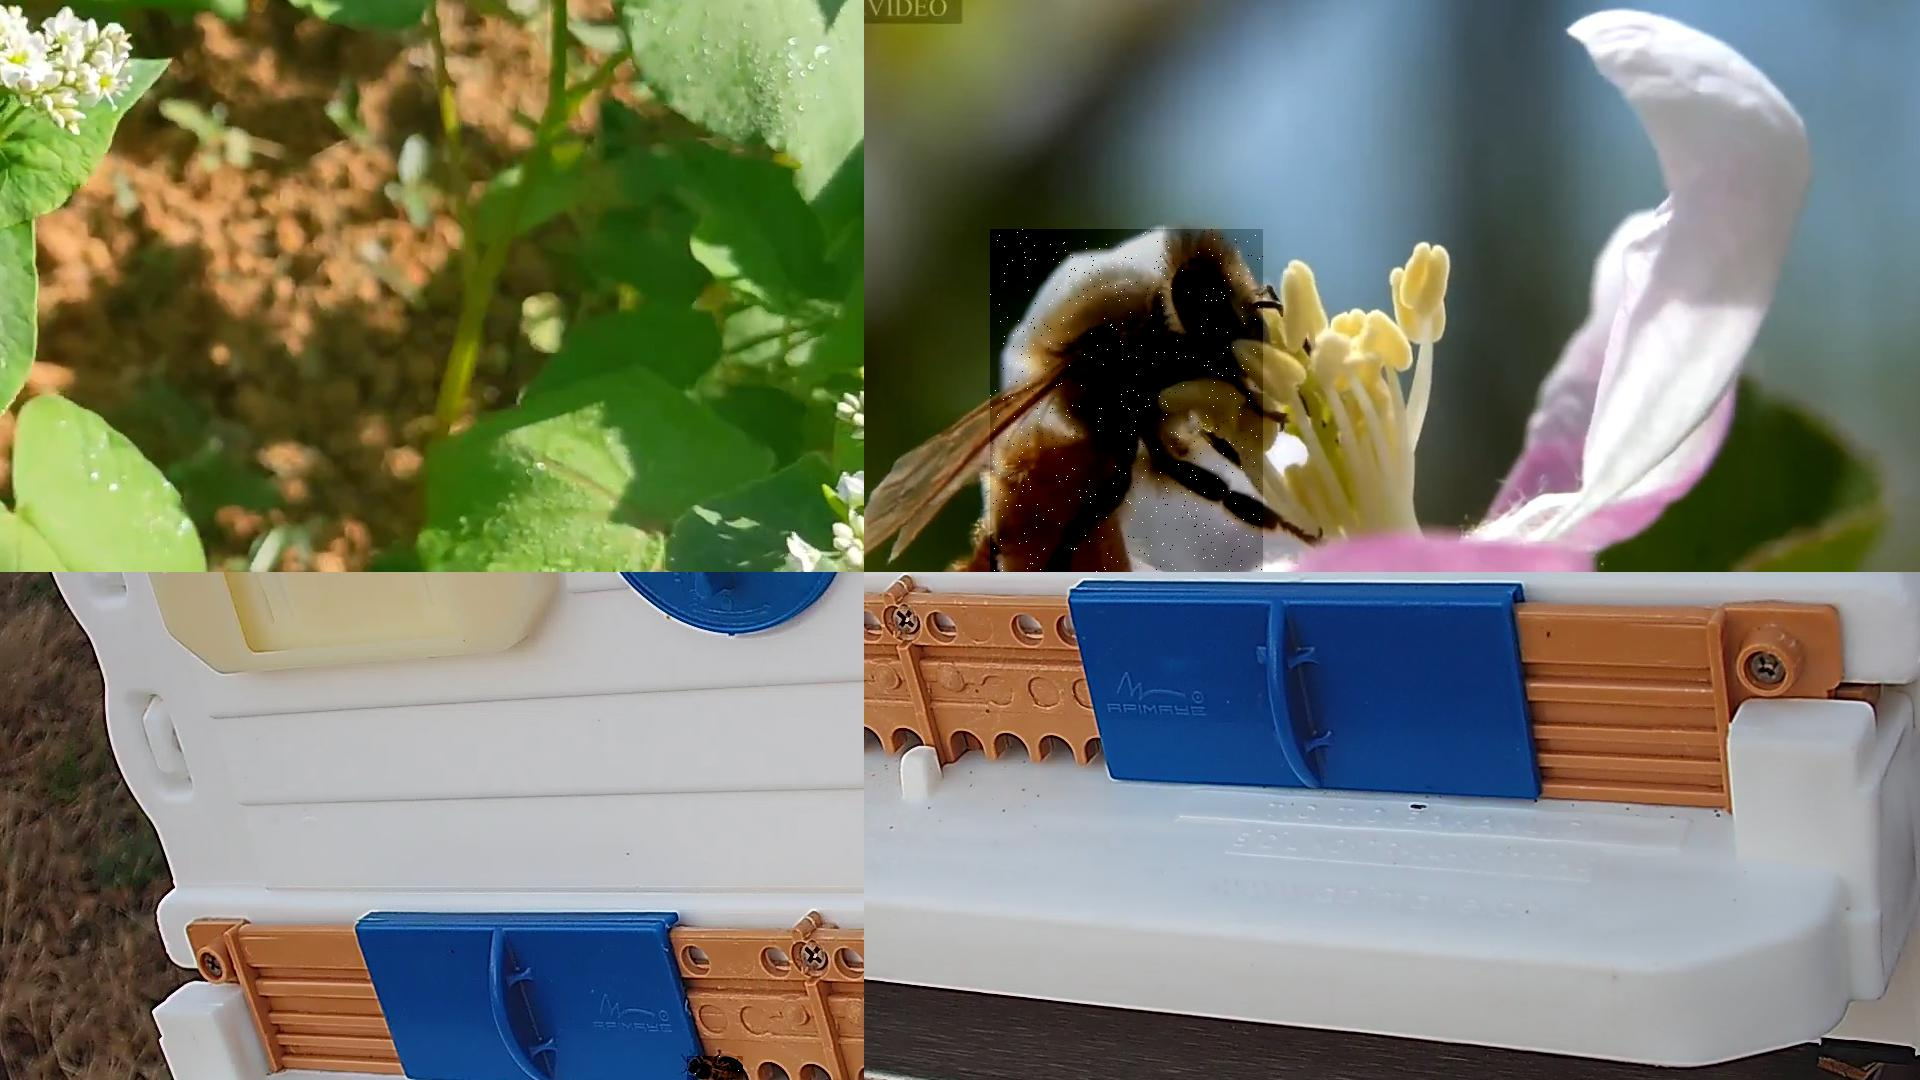bee: (990, 229, 1265, 571), (687, 1056, 744, 1079)
